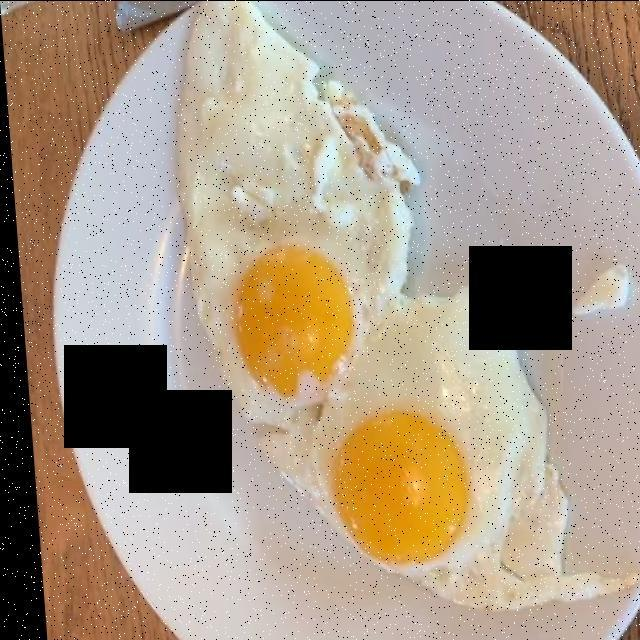egg: (179, 14, 559, 587)
